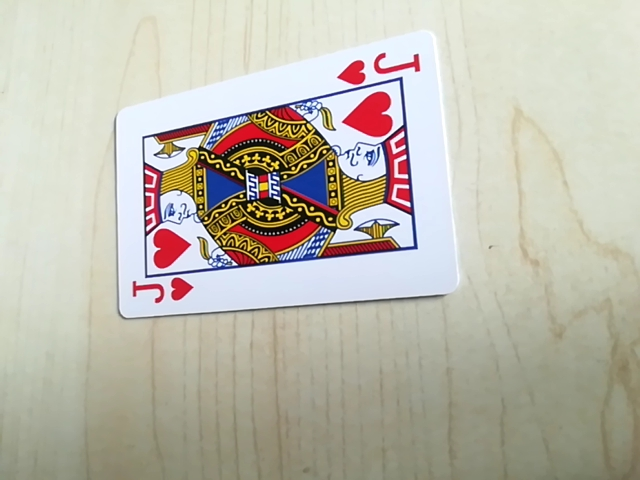hx j: (332, 49, 423, 89), (126, 272, 197, 313)
